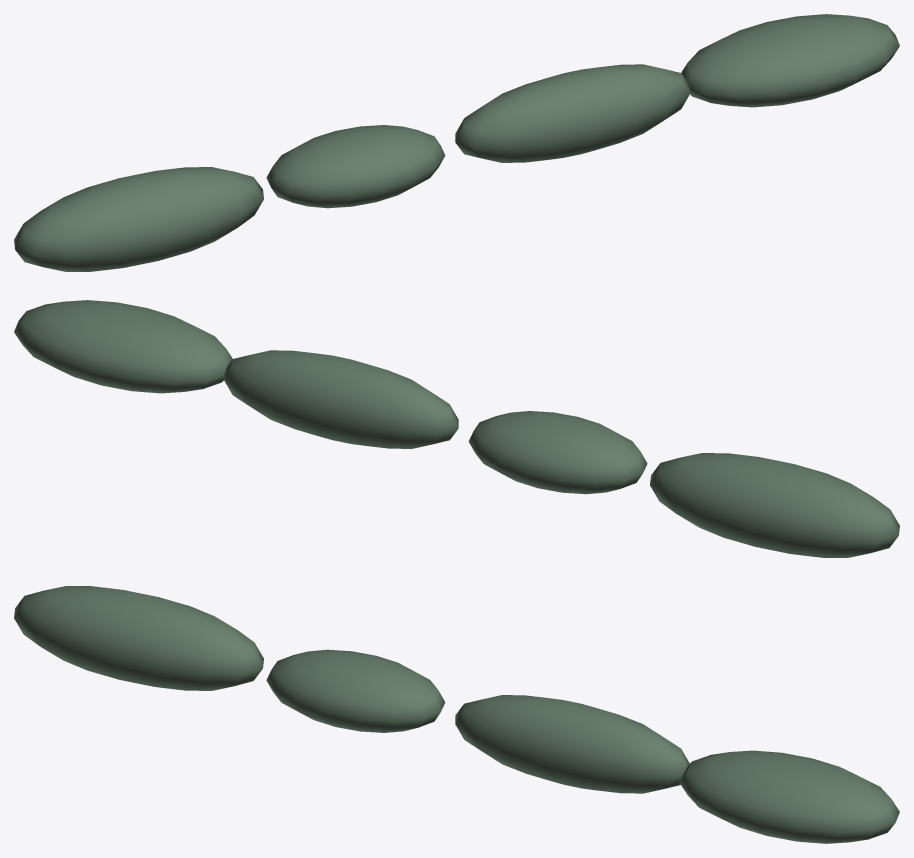
File: hills.glb
3 renders of one model, top to bottom at view 1: azimuth 30°, elevation 25°; view 2: azimuth 150°, elevation 25°; view 3: azimuth 330°, elevation 25°, orthographic.
Visible parts, largest first — view 1: hill_a, hill_c, hill_d, hill_b; view 2: hill_a, hill_c, hill_d, hill_b; view 3: hill_a, hill_c, hill_d, hill_b.
Boxes of the visible parts, x1,y1,x2,y2 form: hill_a: [14, 167, 263, 271]; hill_c: [455, 64, 690, 162]; hill_d: [681, 14, 899, 107]; hill_b: [266, 125, 445, 208]; hill_a: [650, 453, 899, 557]; hill_c: [223, 350, 458, 448]; hill_d: [14, 300, 232, 393]; hill_b: [468, 411, 647, 494]; hill_a: [14, 586, 263, 690]; hill_c: [455, 695, 689, 793]; hill_d: [679, 750, 899, 843]; hill_b: [266, 649, 445, 732].
Size of the model in its own units: 97.43 by 8.12 by 12.51.
